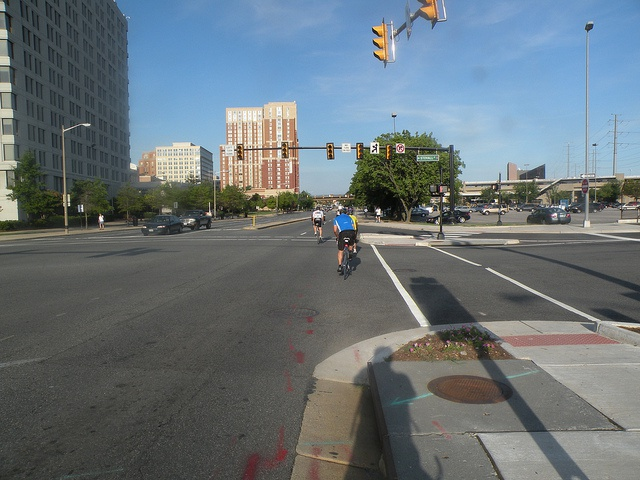non-vehicle: (341, 238, 348, 278), (315, 220, 320, 240)
